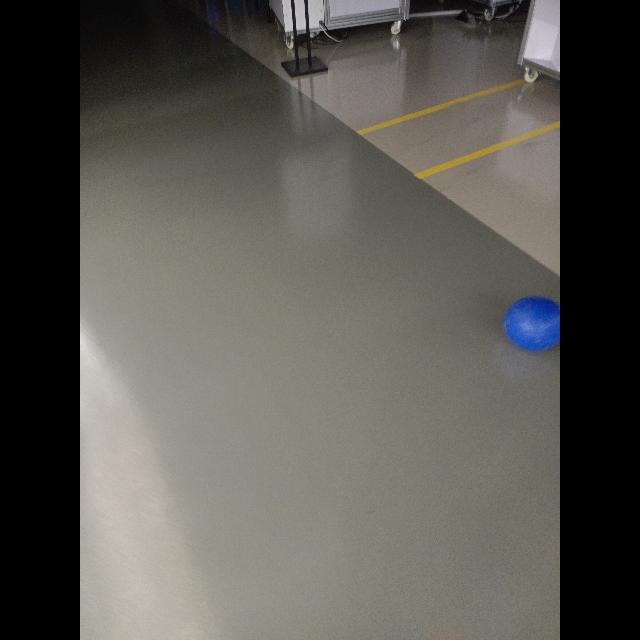B: (502, 294, 560, 352)
